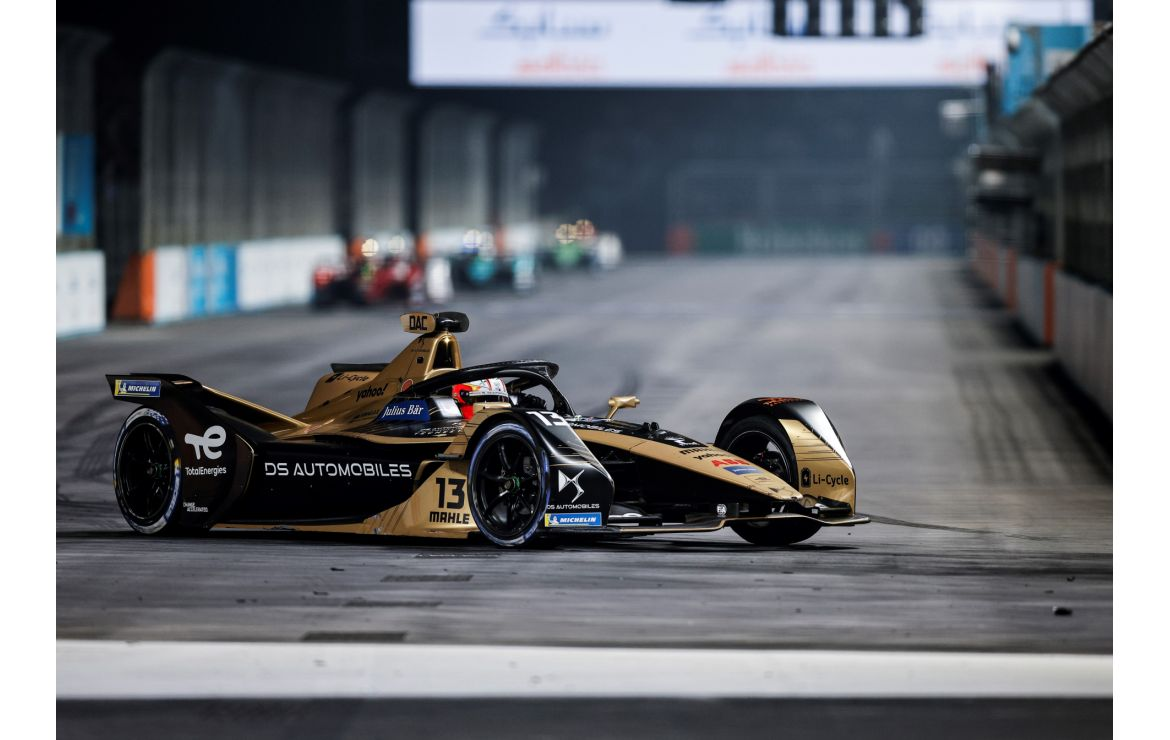Bobsleigh: (110, 355, 857, 550)
